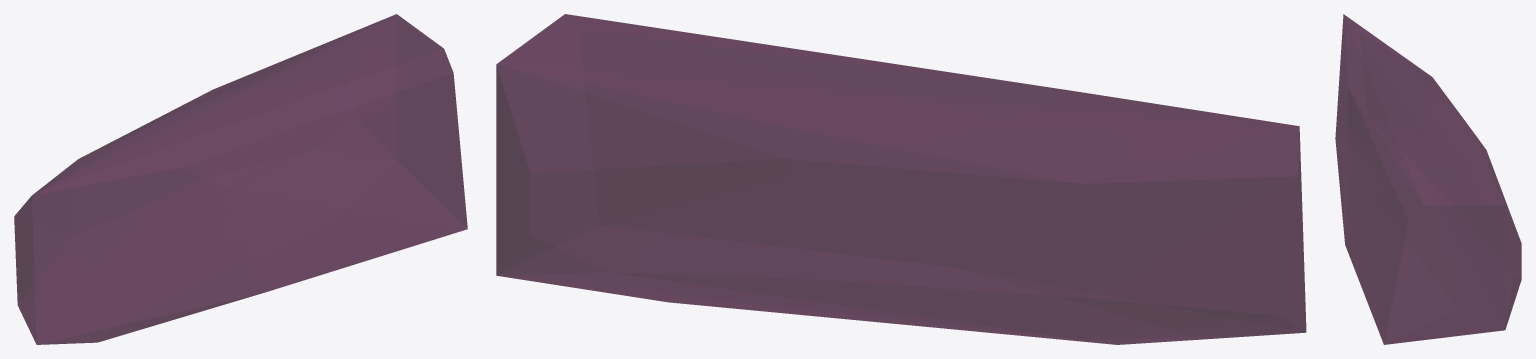
3 views of the same model, side by side, from view 1: azimuth 30°, elevation 25°; view 2: azimuth 150°, elevation 25°; view 3: azimuth 270°, elevation 25° (orthographic). The views are drawn at different scales.
Visible parts, largest first — view 1: Shape_IndexedFaceSet.009_Shape_IndexedFaceSet.7635; view 2: Shape_IndexedFaceSet.009_Shape_IndexedFaceSet.7635; view 3: Shape_IndexedFaceSet.009_Shape_IndexedFaceSet.7635.
Part boxes in pixels (box(x1,y1,x2,y2)): Shape_IndexedFaceSet.009_Shape_IndexedFaceSet.7635: box(14, 14, 467, 344); Shape_IndexedFaceSet.009_Shape_IndexedFaceSet.7635: box(496, 14, 1306, 344); Shape_IndexedFaceSet.009_Shape_IndexedFaceSet.7635: box(1335, 14, 1521, 344).
Size of the model in its own units: 0.4792 by 0.1597 by 0.1933.
